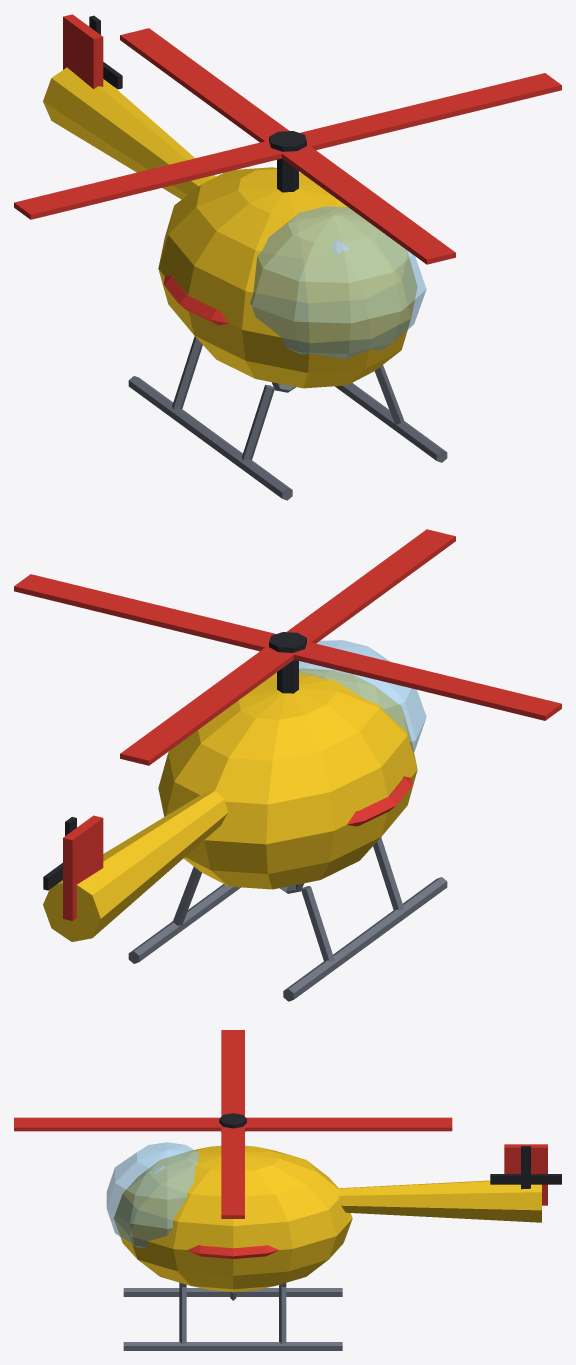
Rendered from toy_helicopter.glb.
3 views of the same model, one above another, from view 1: azimuth 30°, elevation 25°; view 2: azimuth 150°, elevation 25°; view 3: azimuth 270°, elevation 25° (orthographic). The views are drawn at different scales.
Visible parts, largest first — view 1: body_toy_yellow, rotor_toy_red, body_toy_glass, body_toy_grey, body_toy_red, rotor_toy_black, body_toy_black; view 2: body_toy_yellow, rotor_toy_red, body_toy_grey, body_toy_red, body_toy_glass, rotor_toy_black, body_toy_black; view 3: body_toy_yellow, rotor_toy_red, body_toy_glass, body_toy_grey, body_toy_red, tail_rotor_toy_black.
Part boxes in pixels (<box>): body_toy_yellow: <box>43,67,417,388</box>; rotor_toy_red: <box>14,28,561,264</box>; body_toy_glass: <box>250,206,426,359</box>; body_toy_grey: <box>128,336,447,500</box>; body_toy_red: <box>63,14,228,325</box>; rotor_toy_black: <box>269,131,306,161</box>; body_toy_black: <box>277,160,298,192</box>; body_toy_yellow: <box>43,668,417,941</box>; rotor_toy_red: <box>14,529,561,765</box>; body_toy_grey: <box>128,837,447,1001</box>; body_toy_red: <box>63,776,412,920</box>; body_toy_glass: <box>275,640,426,752</box>; rotor_toy_black: <box>269,632,306,662</box>; body_toy_black: <box>277,661,298,693</box>; body_toy_yellow: <box>114,1145,541,1291</box>; rotor_toy_red: <box>14,1030,452,1218</box>; body_toy_glass: <box>106,1142,198,1247</box>; body_toy_grey: <box>123,1282,342,1350</box>; body_toy_red: <box>187,1144,547,1258</box>; tail_rotor_toy_black: <box>490,1146,561,1189</box>.
Bounding box in the file's own units: 2.2 × 1.13 × 2.75.
